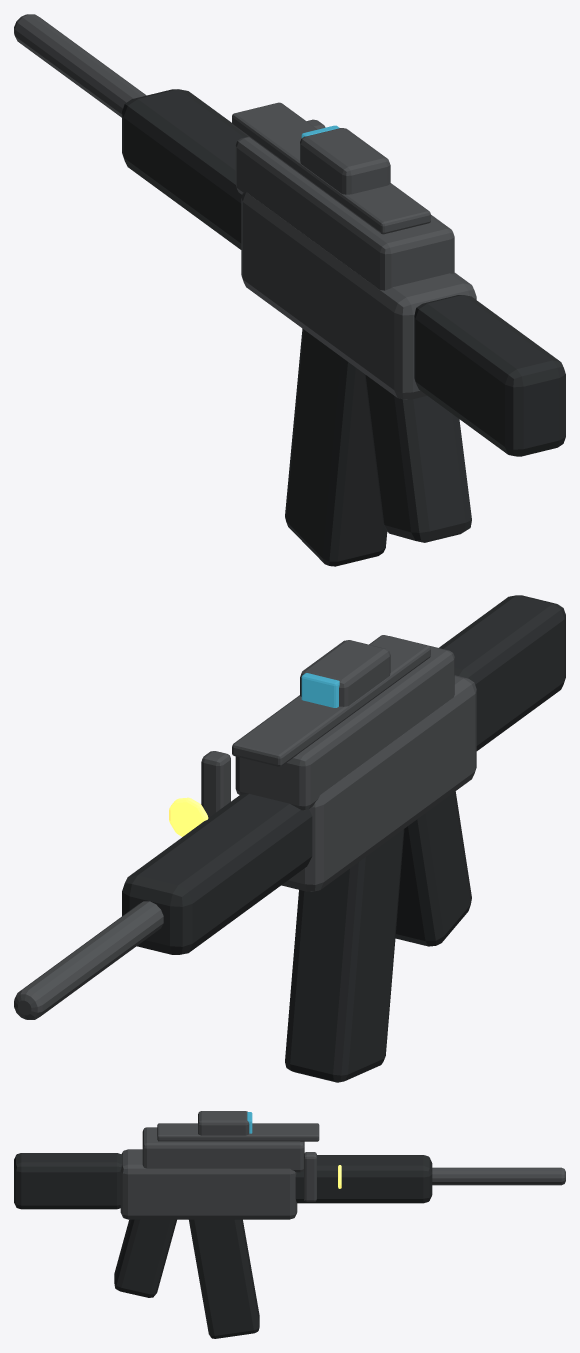
File: wpn_smg.glb
The picture shows the model from 3 angles, top to bottom: view 1: azimuth 30°, elevation 25°; view 2: azimuth 150°, elevation 25°; view 3: azimuth 270°, elevation 25°; orthographic projection. The views are drawn at different scales.
Visible parts, largest first — view 1: Receiver, Stock.003, Mag, PistolGrip.003, Upper, Handguard.003, TopRail.003, Barrel.004, Sight; view 2: Mag, Handguard.003, Receiver, Stock.003, Upper, PistolGrip.003, TopRail.003, Barrel.004, Sight, Flashlight.003, SightGlass, Lamp; view 3: Receiver, Mag, Stock.003, Handguard.003, Upper, PistolGrip.003, Barrel.004, TopRail.003, Sight, Flashlight.003.
Part boxes in pixels (bbox=[...]): Receiver: bbox=[241, 192, 476, 399]; Stock.003: bbox=[414, 295, 565, 456]; Mag: bbox=[285, 328, 387, 566]; PistolGrip.003: bbox=[364, 374, 471, 542]; Upper: bbox=[235, 136, 454, 290]; Handguard.003: bbox=[122, 89, 247, 249]; TopRail.003: bbox=[232, 102, 430, 234]; Barrel.004: bbox=[14, 14, 146, 117]; Sight: bbox=[300, 128, 390, 194]; Mag: bbox=[285, 829, 404, 1082]; Handguard.003: bbox=[122, 794, 312, 954]; Receiver: bbox=[281, 675, 476, 891]; Stock.003: bbox=[439, 595, 565, 750]; Upper: bbox=[235, 636, 454, 810]; PistolGrip.003: bbox=[395, 791, 471, 946]; TopRail.003: bbox=[232, 635, 430, 766]; Barrel.004: bbox=[14, 901, 163, 1019]; Sight: bbox=[300, 640, 390, 706]; Flashlight.003: bbox=[201, 751, 230, 817]; SightGlass: bbox=[301, 673, 339, 707]; Lamp: bbox=[169, 797, 208, 836]; Receiver: bbox=[120, 1149, 297, 1219]; Mag: bbox=[189, 1219, 259, 1338]; Stock.003: bbox=[14, 1153, 122, 1209]; Handguard.003: bbox=[295, 1155, 432, 1203]; Upper: bbox=[142, 1127, 304, 1172]; PistolGrip.003: bbox=[114, 1219, 176, 1297]; Barrel.004: bbox=[432, 1167, 565, 1185]; TopRail.003: bbox=[157, 1123, 319, 1141]; Sight: bbox=[198, 1111, 249, 1135]; Flashlight.003: bbox=[304, 1152, 316, 1201].
Size of the model in its own units: 0.0902 by 0.326 by 0.7503.
